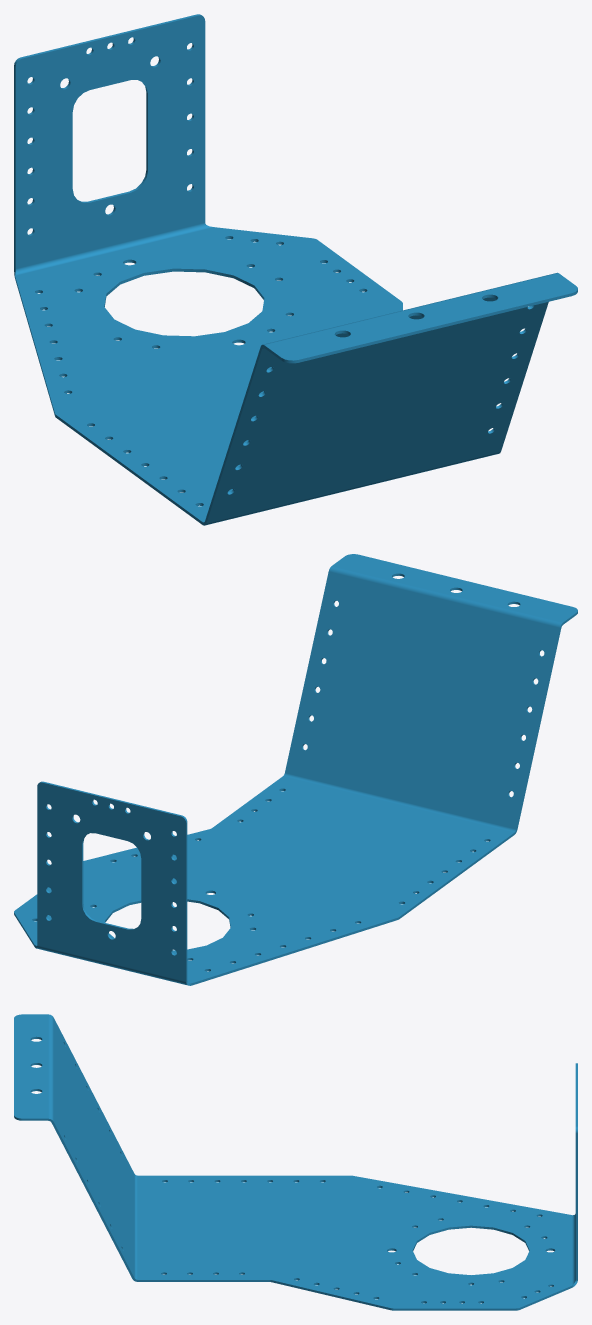
3 renders of one model, top to bottom at view 1: azimuth 30°, elevation 25°; view 2: azimuth 150°, elevation 25°; view 3: azimuth 270°, elevation 25°, orthographic. The views are drawn at different scales.
Parts seen in each view (by area): view 1: mesh2439, mesh2521, mesh2534, mesh2515, mesh2490, mesh2513, mesh2503; view 2: mesh2520, mesh2439, mesh2535, mesh2515, mesh2508, mesh2491, mesh2495, mesh2487; view 3: mesh2439, mesh2520, mesh2515, mesh2508, mesh2504, mesh2497, mesh2491.
Boxes of the visible parts, x1,y1,x2,y2 form: mesh2439: [15, 227, 402, 521]; mesh2521: [206, 297, 548, 523]; mesh2534: [15, 15, 205, 268]; mesh2515: [264, 273, 577, 360]; mesh2490: [15, 222, 214, 275]; mesh2513: [298, 293, 571, 362]; mesh2503: [205, 452, 500, 525]; mesh2520: [285, 572, 559, 828]; mesh2439: [14, 776, 513, 983]; mesh2535: [37, 782, 186, 981]; mesh2515: [332, 554, 577, 622]; mesh2508: [328, 566, 562, 627]; mesh2491: [283, 773, 516, 832]; mesh2495: [36, 945, 187, 985]; mesh2487: [191, 918, 397, 985]; mesh2439: [137, 1175, 571, 1308]; mesh2520: [53, 1018, 134, 1276]; mesh2515: [14, 1014, 48, 1118]; mesh2508: [48, 1014, 53, 1121]; mesh2504: [52, 1122, 134, 1278]; mesh2497: [575, 1133, 577, 1279]; mesh2491: [134, 1174, 137, 1279].
Bounding box in the file's own units: 0.1746 × 0.1 × 0.313.
